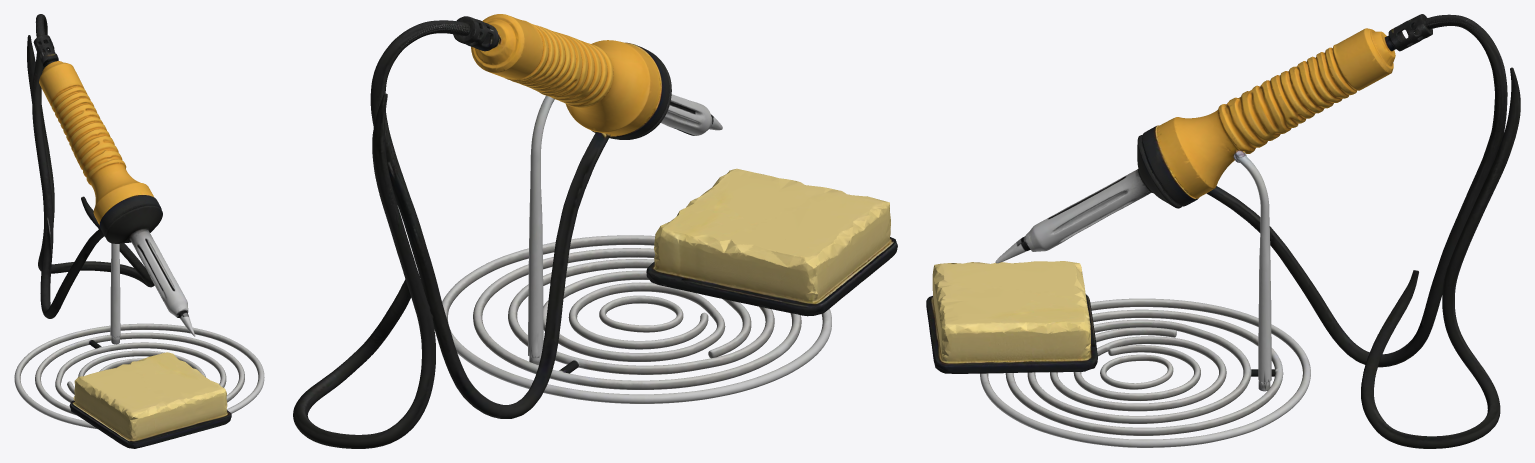
The model's file is iron.glb.
The picture shows the model from 3 angles, left to right: view 1: azimuth 30°, elevation 25°; view 2: azimuth 150°, elevation 25°; view 3: azimuth 270°, elevation 25°; orthographic projection. The views are drawn at different scales.
Visible parts, largest first — view 1: tripo_node_5fe80e5a-538c-46af-8be5-a63e2222a54c; view 2: tripo_node_5fe80e5a-538c-46af-8be5-a63e2222a54c; view 3: tripo_node_5fe80e5a-538c-46af-8be5-a63e2222a54c.
Part boxes in pixels (x1,y1,x2,y2): tripo_node_5fe80e5a-538c-46af-8be5-a63e2222a54c: (14, 14, 264, 448); tripo_node_5fe80e5a-538c-46af-8be5-a63e2222a54c: (293, 14, 897, 448); tripo_node_5fe80e5a-538c-46af-8be5-a63e2222a54c: (926, 14, 1520, 448).
Bounding box in the file's own units: 0.5629 × 0.6805 × 0.9796.
1 material, 1 textured.
